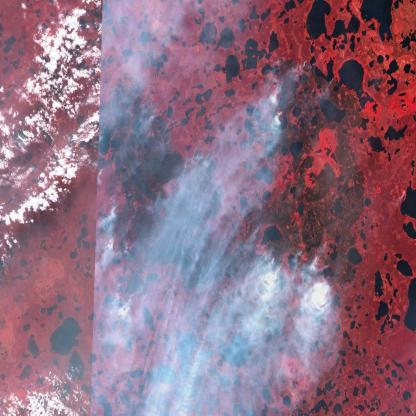fire: (258, 236, 338, 301), (271, 57, 320, 98), (102, 197, 121, 256), (187, 146, 213, 174), (272, 106, 286, 125)
